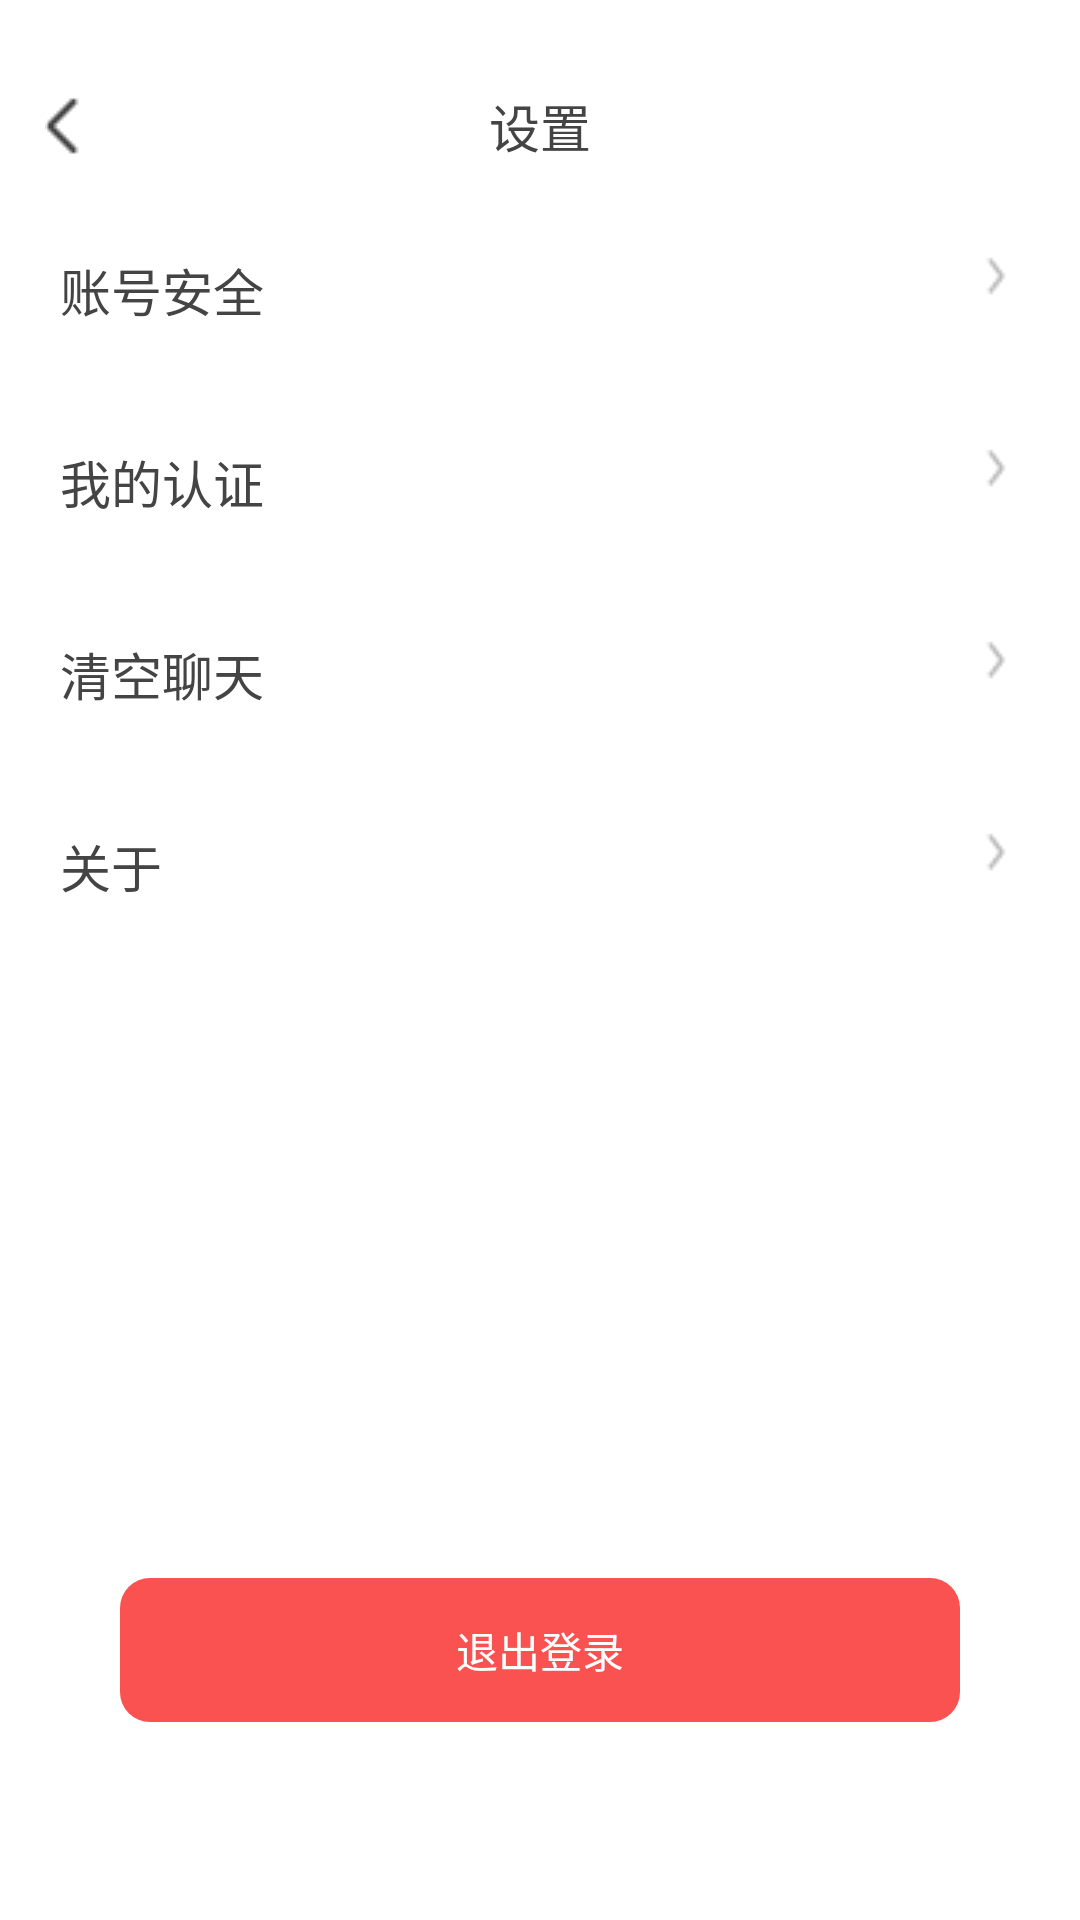

Icons on this 1080x1920 Android screen, each with its box as (x1, y1, x2, y2):
src login left: (45, 98, 78, 154)
src mine setting next: (988, 258, 1004, 294), (988, 450, 1004, 486), (988, 642, 1004, 678), (988, 834, 1004, 870)
